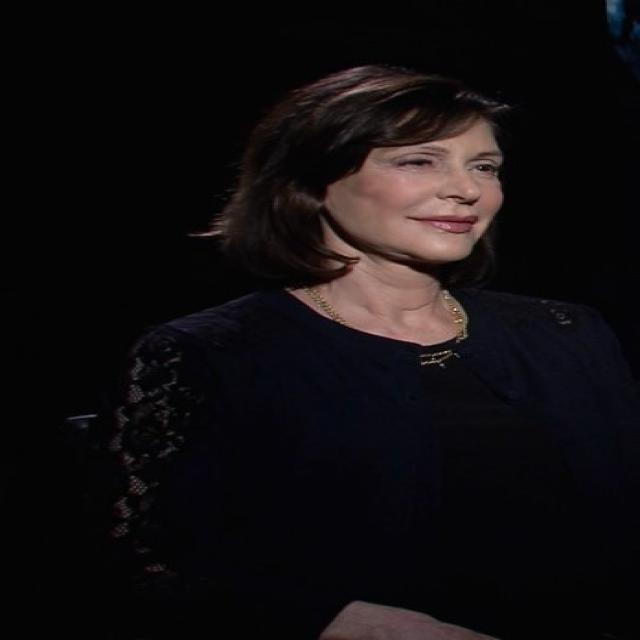mobile_phonerotation: (85, 62, 636, 638)
